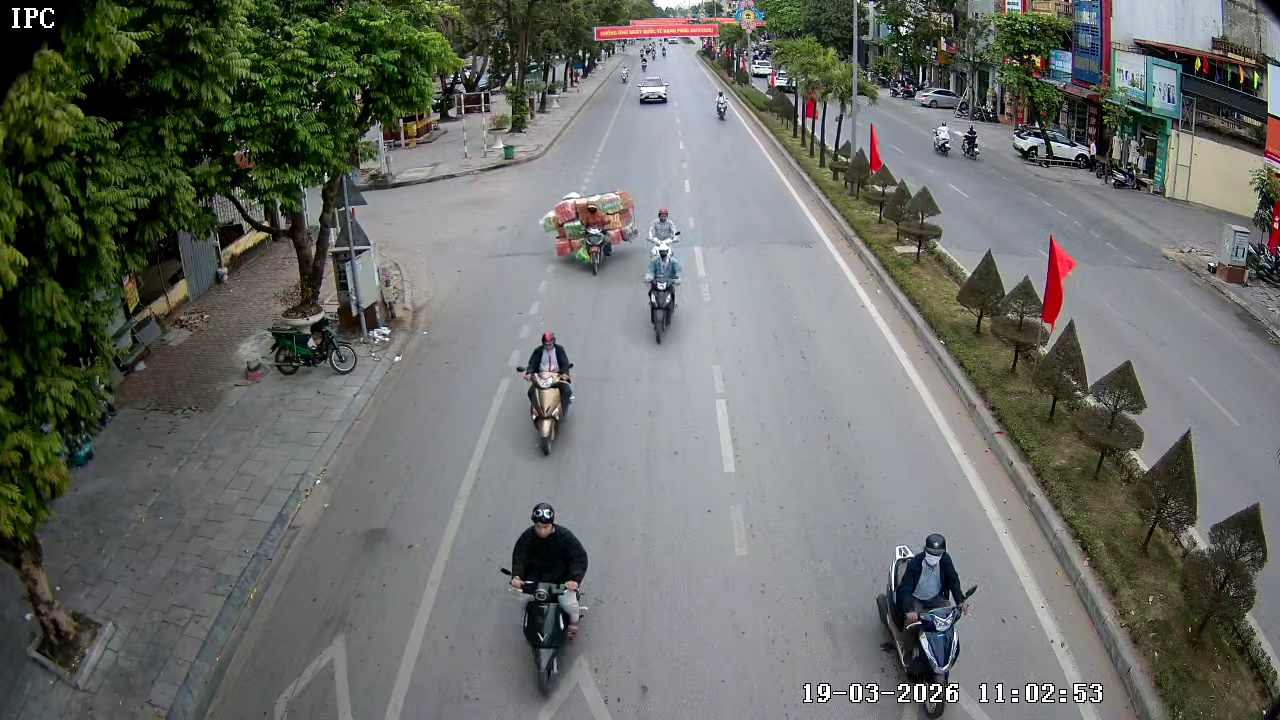car: (635, 73, 675, 107)
exception: (644, 207, 687, 247)
motorbike: (499, 501, 592, 698), (876, 533, 978, 698), (261, 304, 370, 380), (513, 331, 577, 457), (641, 239, 687, 343), (575, 201, 616, 280), (713, 87, 735, 122), (618, 64, 634, 85)
